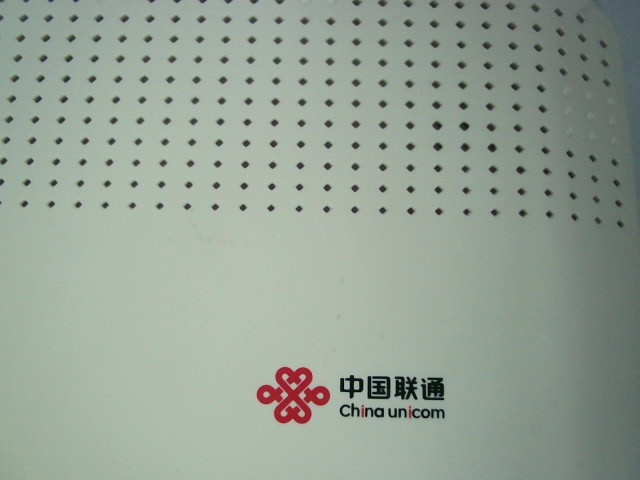AD_ChinaUnicom: (246, 345, 463, 428)
